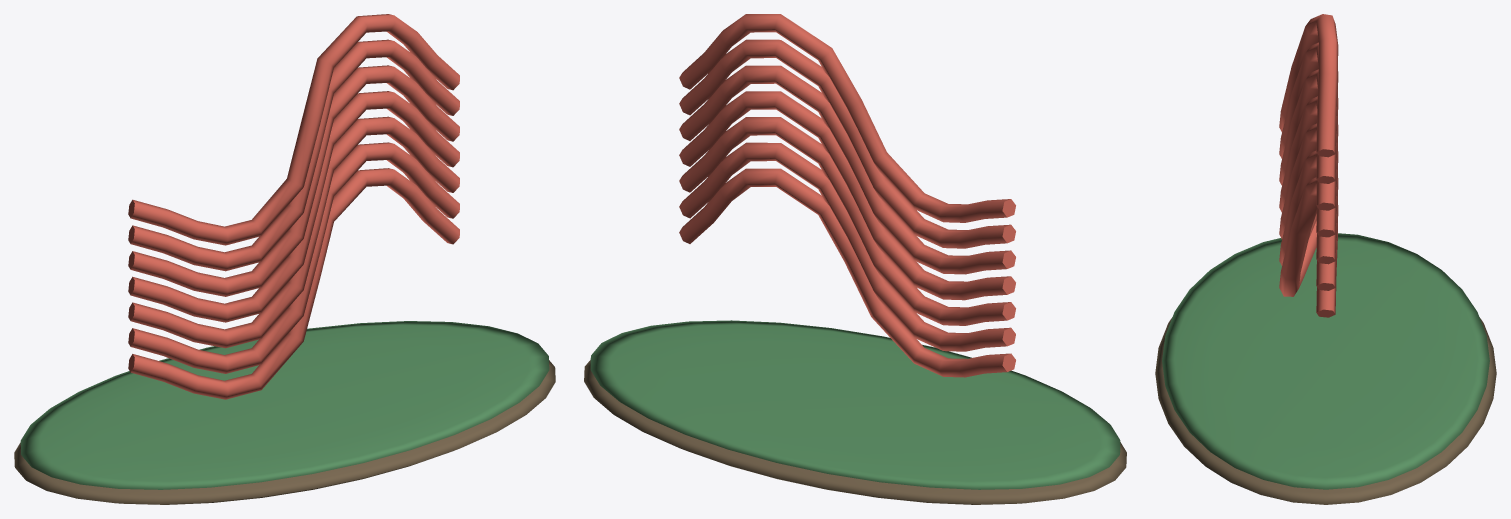
The model's file is long.glb.
The picture shows the model from 3 angles, left to right: view 1: azimuth 30°, elevation 25°; view 2: azimuth 150°, elevation 25°; view 3: azimuth 270°, elevation 25°; orthographic projection. The views are drawn at different scales.
Parts seen in each view (by area): view 1: long_surface_01, long_surface_02, long_surface_00; view 2: long_surface_01, long_surface_02, long_surface_00; view 3: long_surface_01, long_surface_02, long_surface_00.
Part boxes in pixels (bbox=[...]): long_surface_01: bbox=[20, 321, 549, 489]; long_surface_02: bbox=[128, 14, 459, 399]; long_surface_00: bbox=[14, 360, 555, 504]; long_surface_01: bbox=[590, 320, 1120, 489]; long_surface_02: bbox=[679, 14, 1015, 377]; long_surface_00: bbox=[584, 360, 1126, 504]; long_surface_01: bbox=[1162, 233, 1489, 489]; long_surface_02: bbox=[1279, 14, 1338, 317]; long_surface_00: bbox=[1155, 317, 1496, 504].
Bounding box in the file's own units: 4.56 × 3.34 × 2.5.
